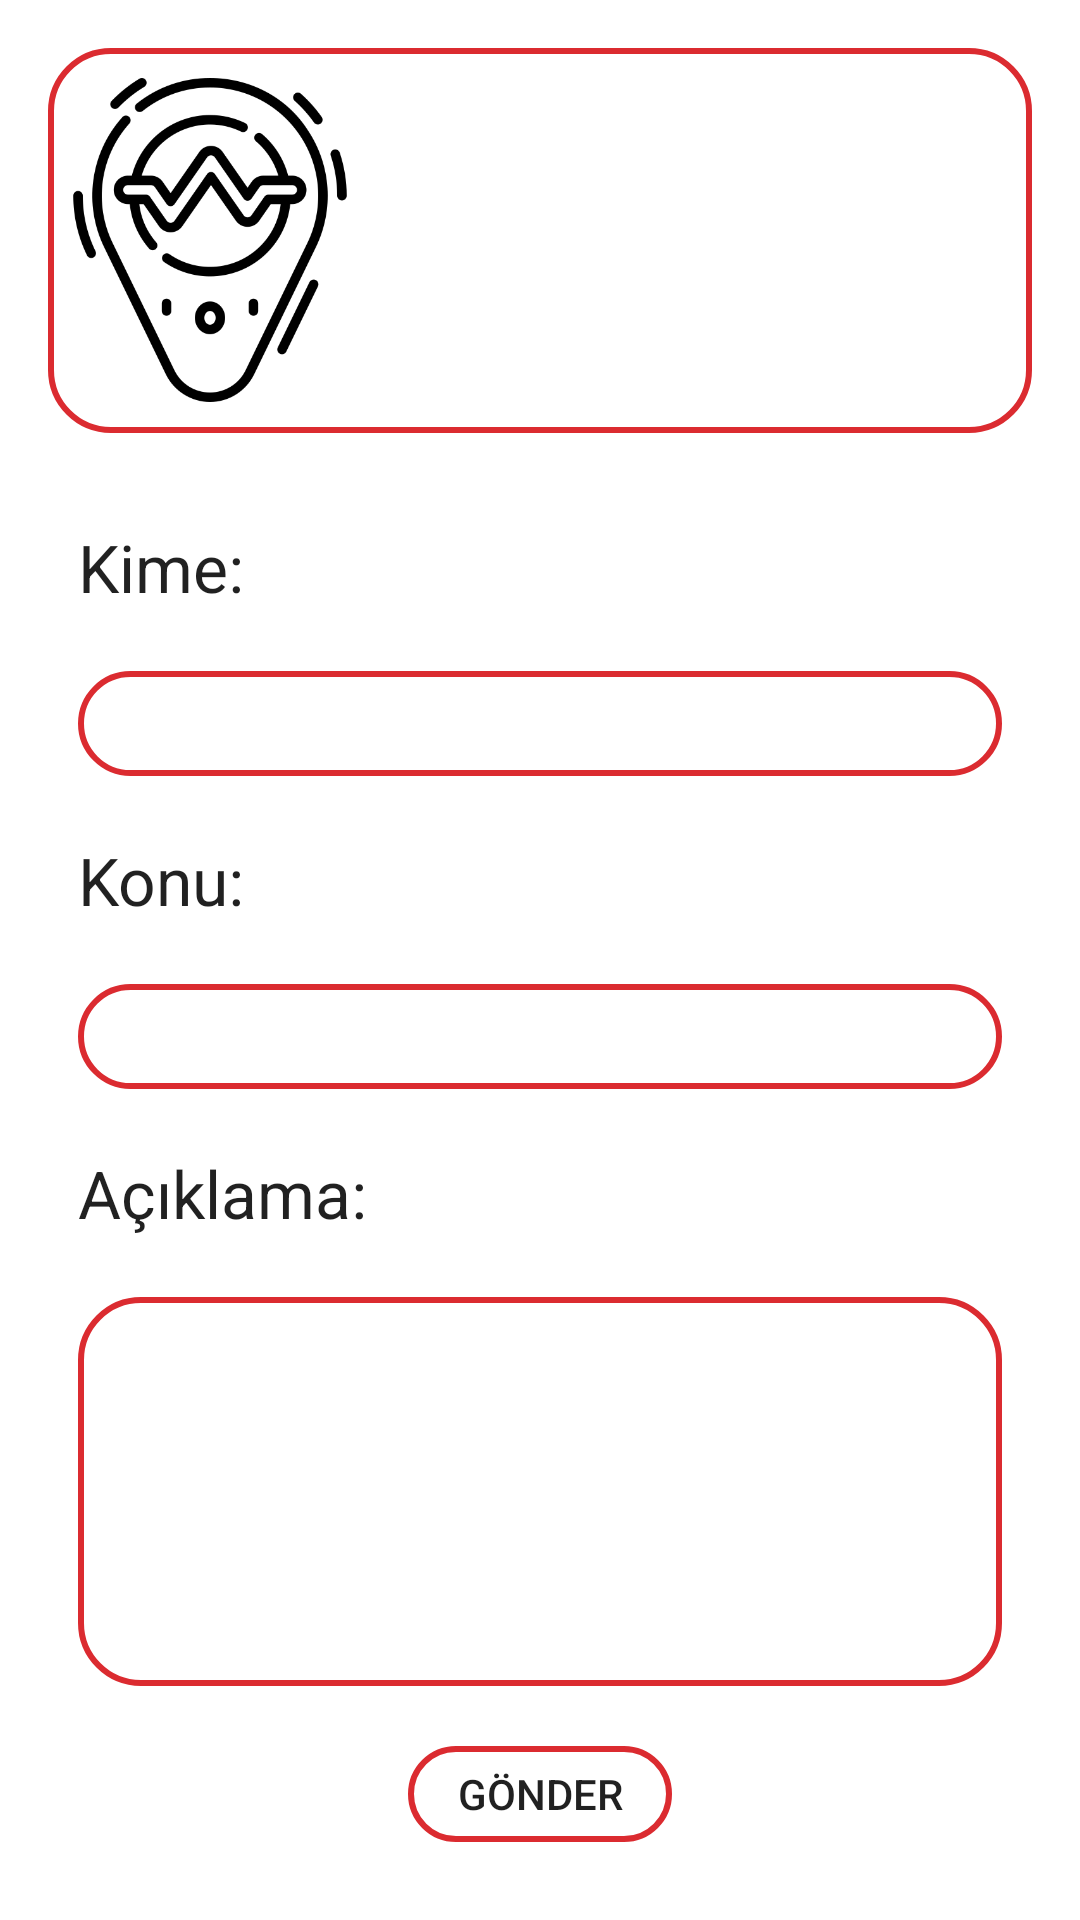

Named icons in this screenshot (1080w x 1920h) and their centers, [x,y]:
earthquake: [210,240]
